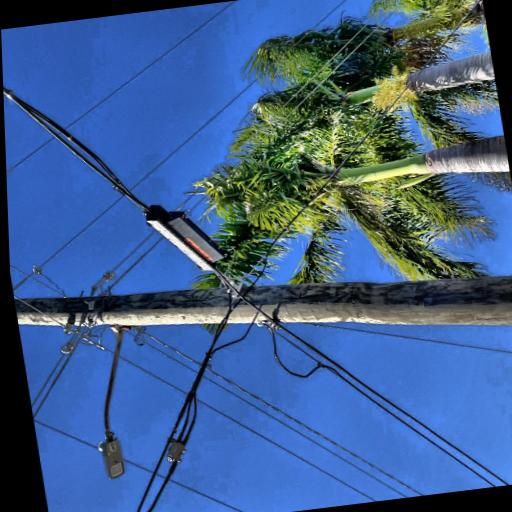pole: (1, 18, 175, 512)
street light: (8, 209, 87, 278)
